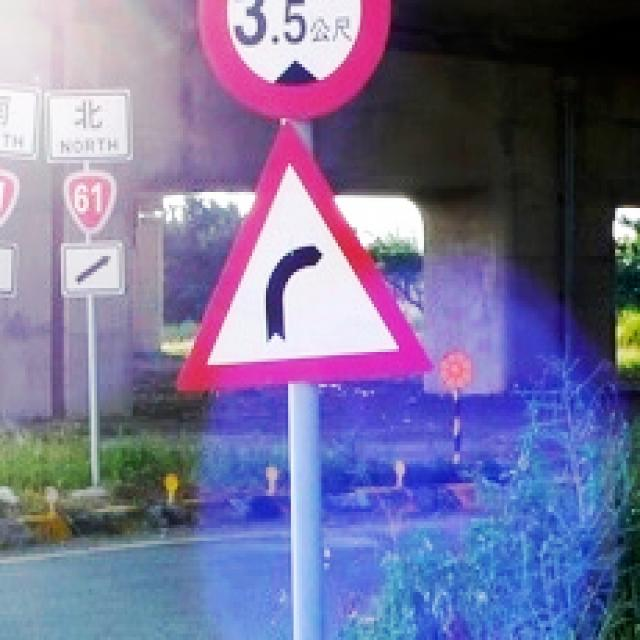rightbend: (177, 118, 432, 390)
